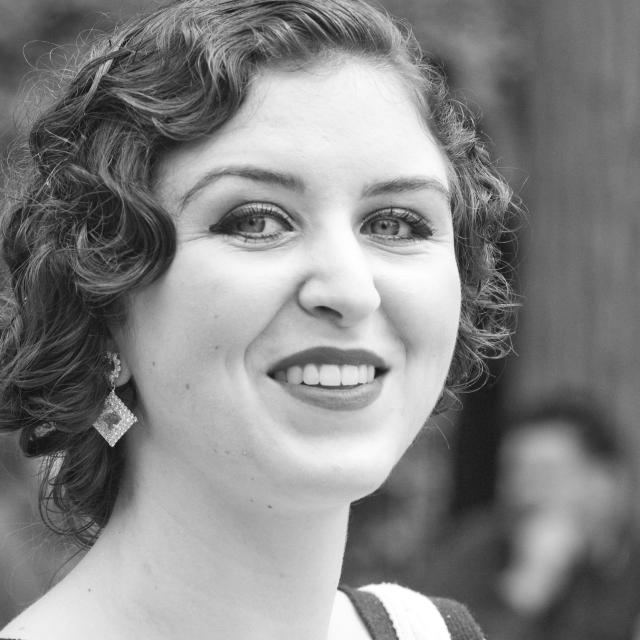no-glass: (219, 199, 438, 245)
